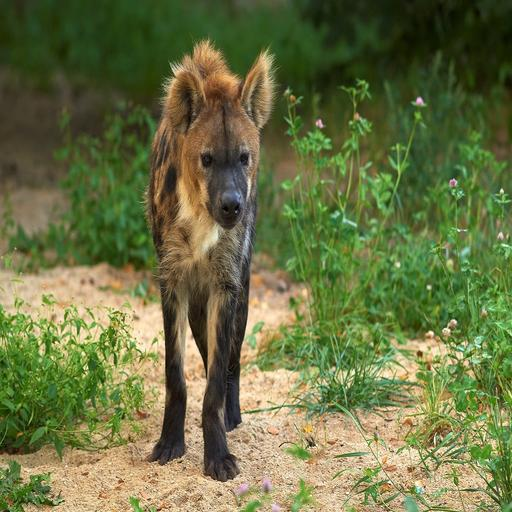Hyena: (137, 34, 278, 483)
